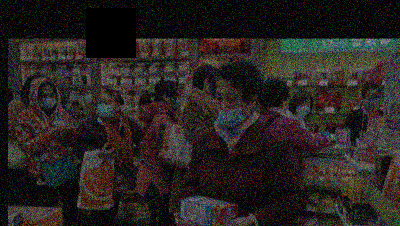mask_weared_incorrect: (214, 88, 248, 128)
with_mask: (94, 97, 114, 118), (35, 89, 55, 110), (361, 93, 379, 109), (166, 91, 179, 111), (296, 100, 309, 116)
